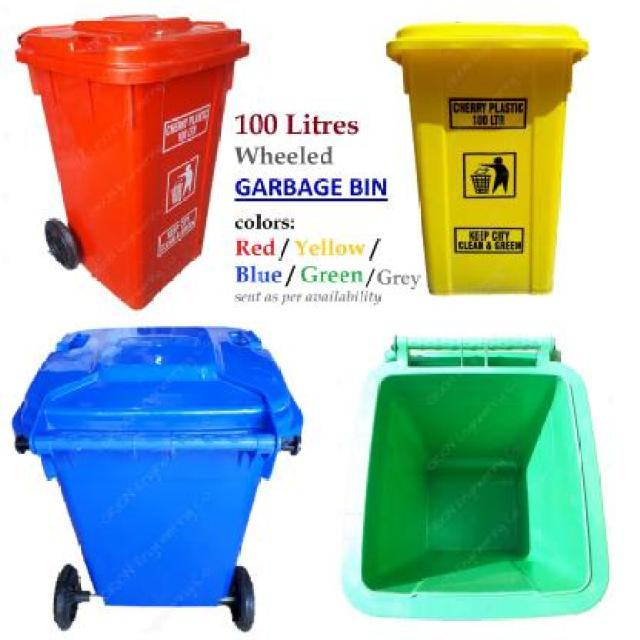garbage container: (5, 326, 314, 634), (330, 330, 622, 630), (10, 8, 262, 321), (379, 11, 603, 318)
